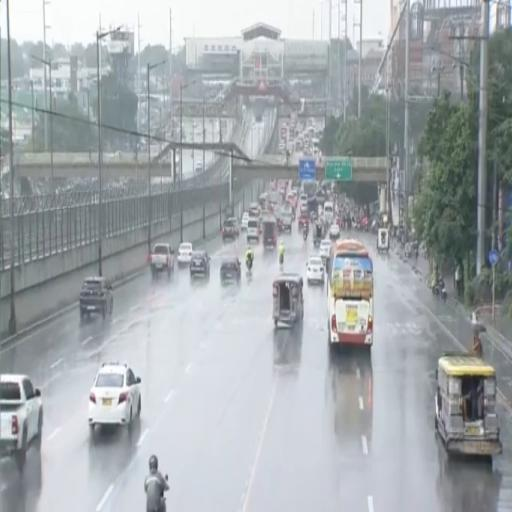bus: (327, 239, 373, 349)
car: (89, 363, 141, 431), (79, 277, 113, 321), (220, 256, 241, 283), (190, 250, 210, 278), (307, 256, 324, 283), (222, 218, 238, 241), (177, 243, 193, 265), (247, 218, 260, 243), (319, 239, 332, 262), (329, 223, 339, 239), (241, 213, 248, 231)
jeepney: (435, 352, 501, 456)
motorcycle: (438, 279, 447, 303), (155, 496, 166, 511), (432, 283, 438, 298), (246, 259, 253, 271), (279, 253, 284, 266), (303, 230, 308, 241)
truck: (0, 374, 43, 472), (149, 244, 174, 278)
